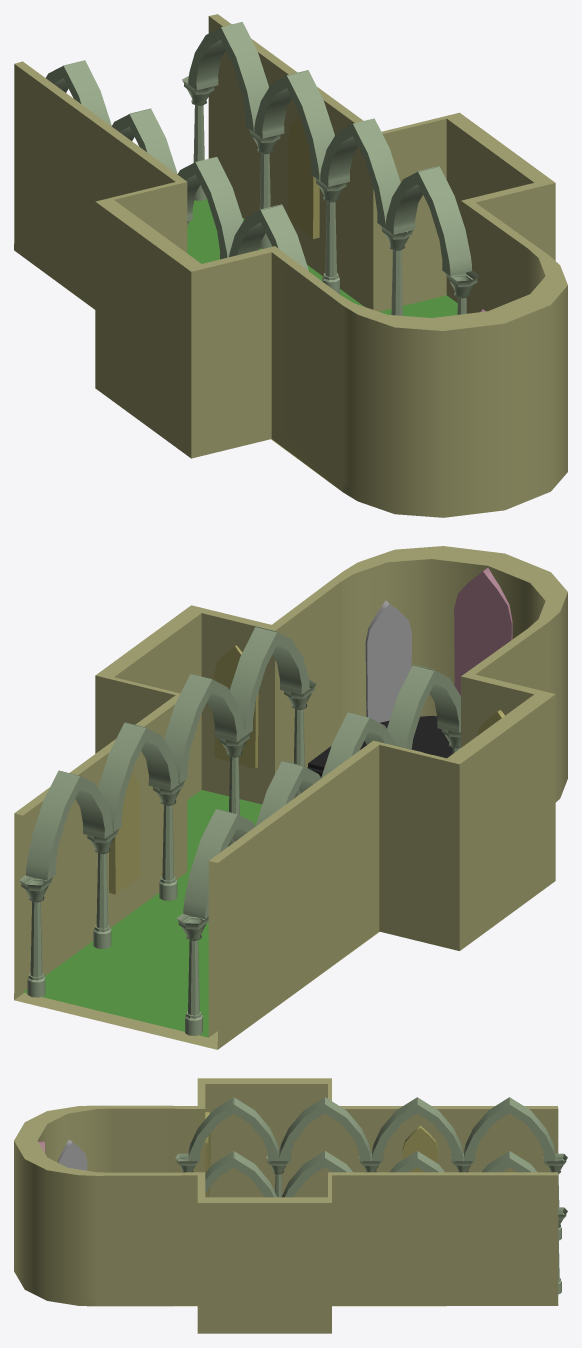
File: Church_Inside.fbx
3 renders of one model, top to bottom at view 1: azimuth 30°, elevation 25°; view 2: azimuth 150°, elevation 25°; view 3: azimuth 270°, elevation 25°, orthographic. The views are drawn at different scales.
Parts seen in each view (by area): view 1: pCube1, pCube19, pCube36, pCube21, pCube23, pCube17, pCube8, pCube18, pCube22, pCube24, pCube16, pCube20 (+8 smaller); view 2: pCube1, pCube2, pCube33, pCube24, pCube15, pCube36, pCube20, pCube22, pCube18, pCube10, pCylinder11, pCylinder5 (+13 smaller); view 3: pCube1, pCube15, pCube16, pCube10, pCube8, pCube11, pCube13, pCube12, pCube14, pCube35, pCube18, pCube17 (+9 smaller).
Boxes of the visible parts, x1,y1,x2,y2 form: pCube1: (14,14,567,517); pCube19: (417,166,471,276); pCube36: (288,115,319,238); pCube21: (287,70,334,180); pCube23: (221,22,268,132); pCube17: (353,118,400,228); pCube8: (195,157,243,259); pCube18: (385,166,439,234); pCube22: (254,70,307,138); pCube24: (188,25,226,90); pCube16: (260,204,308,270); pCube20: (320,124,357,186); pCube1: (14,546,567,1049); pCube2: (454,568,512,696); pCube33: (365,600,411,722); pCube24: (26,770,80,880); pCube15: (183,809,237,919); pCube36: (109,773,140,894); pCube20: (164,674,212,784); pCube22: (98,722,146,832); pCube18: (229,626,277,735); pCube10: (387,664,434,749); pCylinder11: (19,875,52,997); pCylinder5: (176,913,208,1035); pCube1: (14,1078,558,1333); pCube15: (509,1097,555,1161); pCube16: (188,1097,234,1161); pCube10: (233,1097,279,1161); pCube8: (279,1097,325,1161); pCube11: (372,1097,417,1161); pCube13: (417,1097,462,1161); pCube12: (325,1097,370,1161); pCube14: (464,1097,509,1161); pCube35: (402,1125,438,1172); pCube18: (233,1151,276,1197); pCube17: (281,1151,325,1197).
Bounding box in the file's own units: 23.16 × 12.55 × 43.59.
